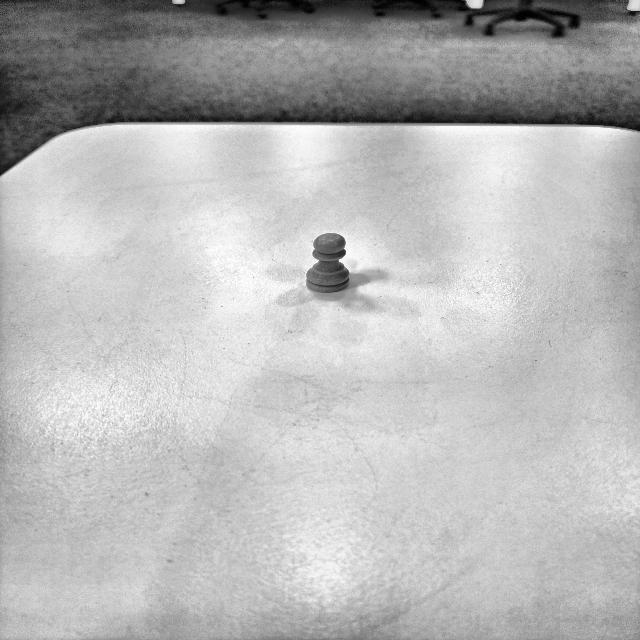white-pawn: (306, 233, 351, 292)
